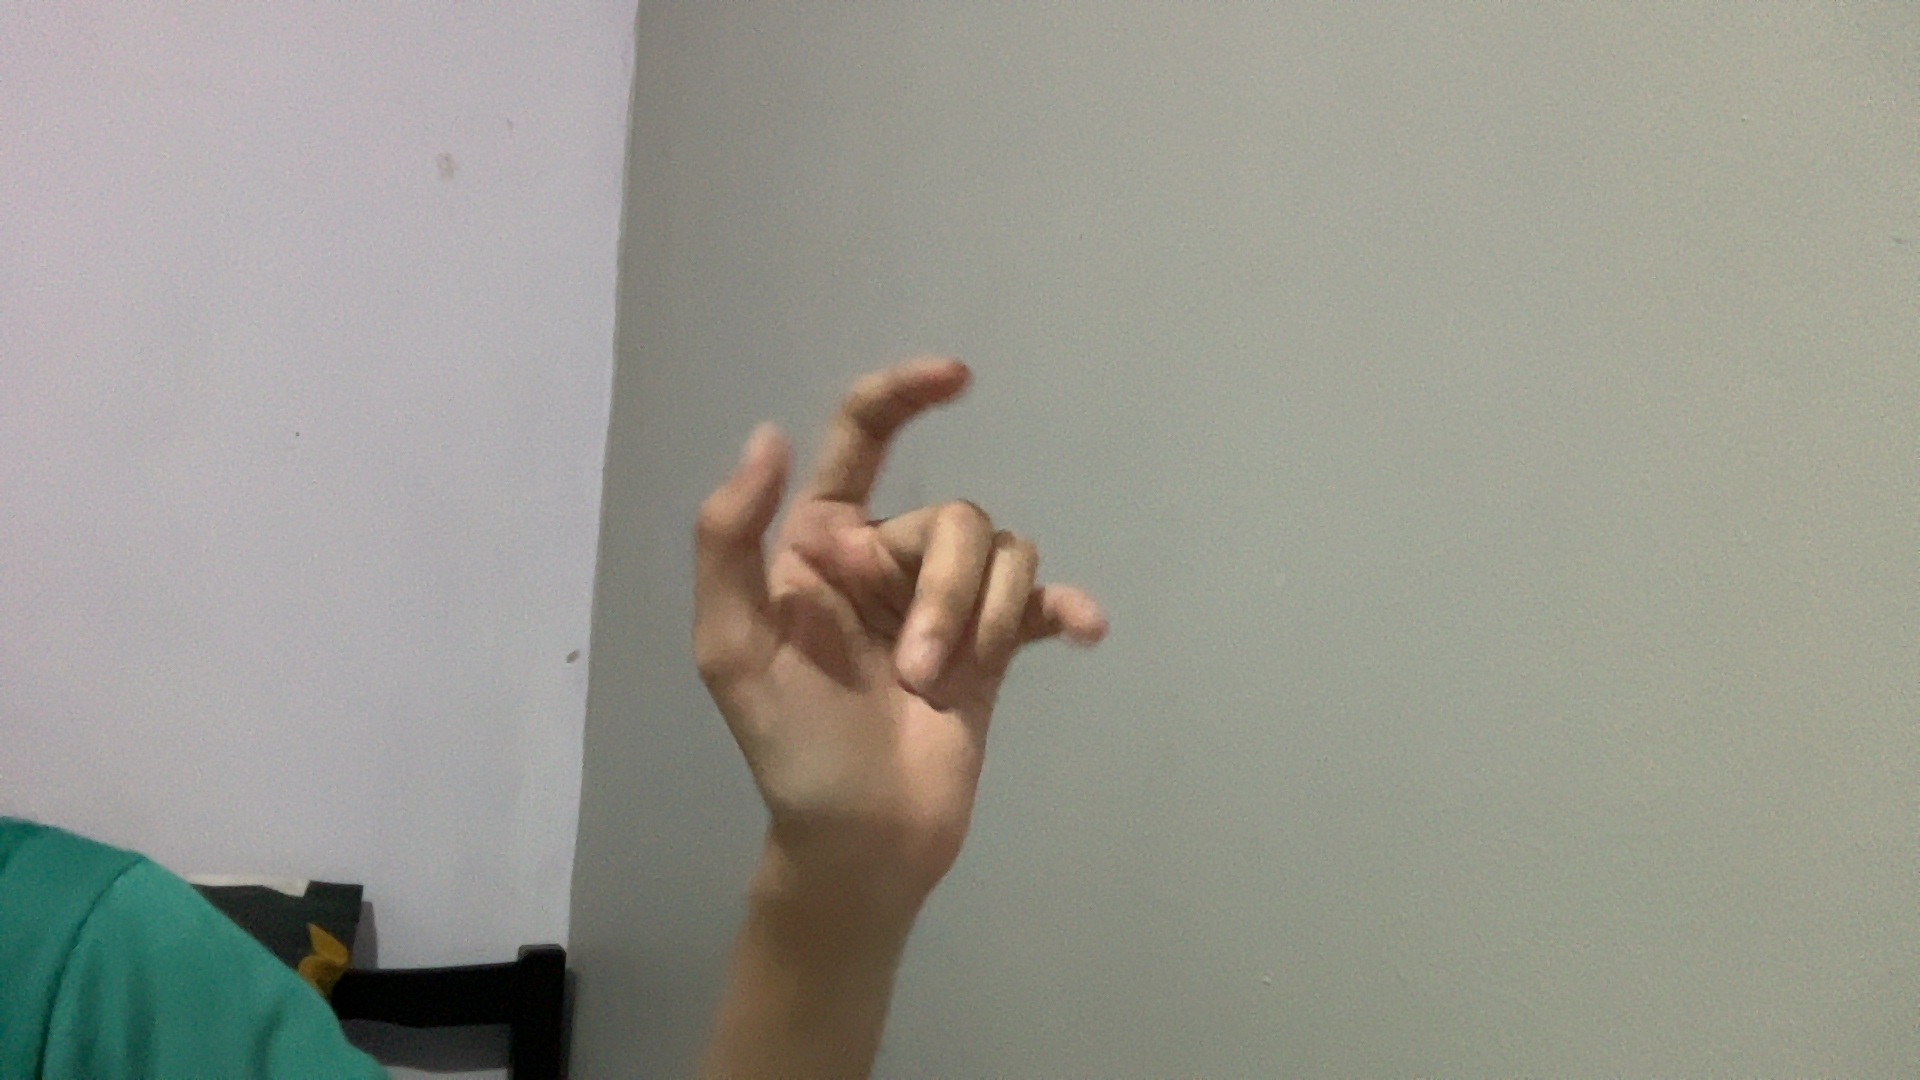I Love You: (525, 266, 1263, 897)
